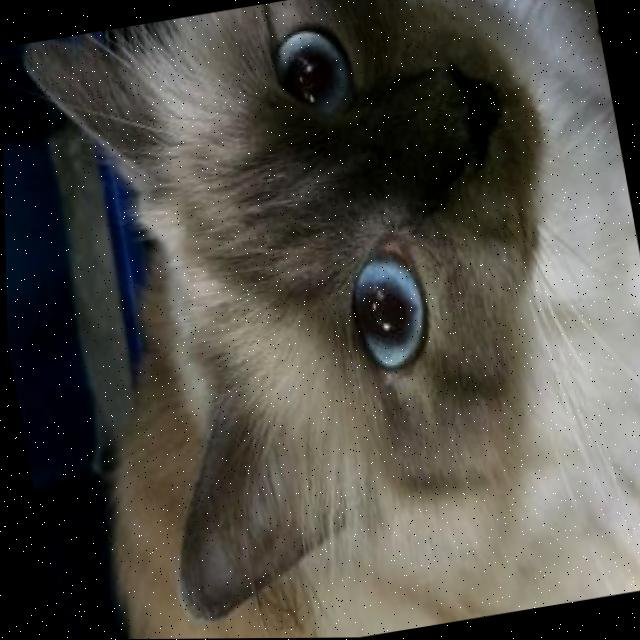Birman: (13, 0, 640, 640)
